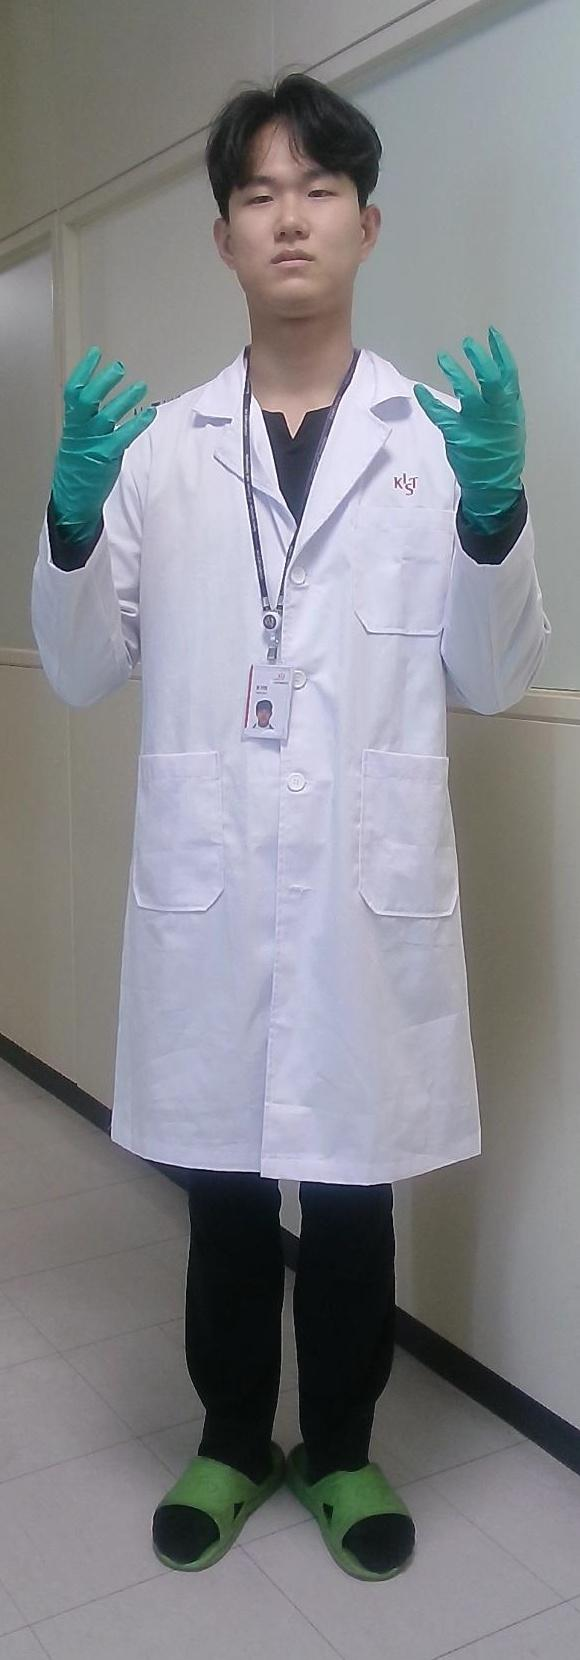lab_coat: (31, 346, 557, 1188)
